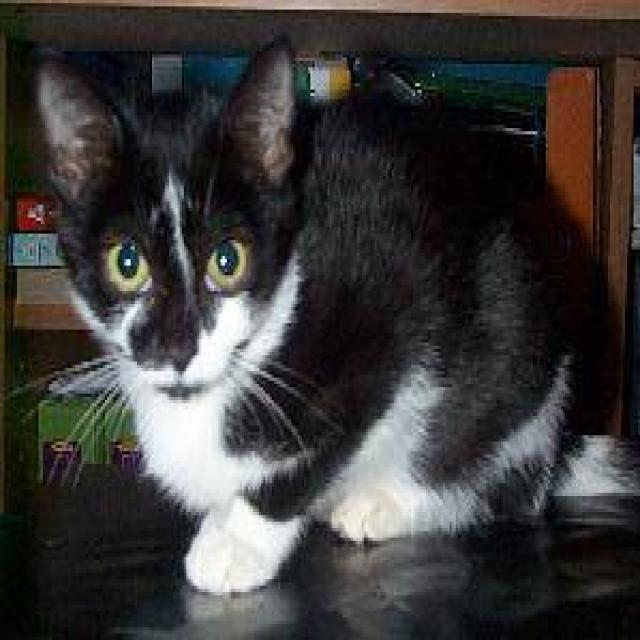cat: (21, 32, 638, 595)
